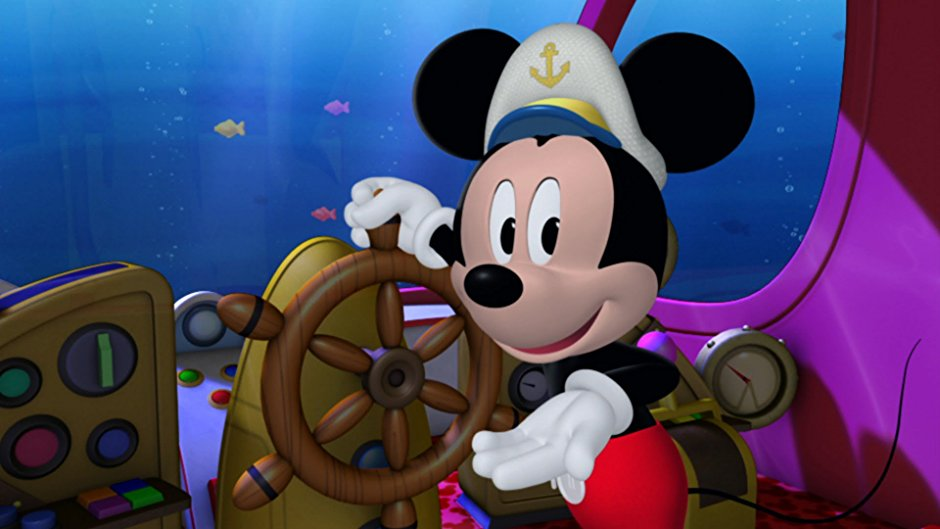Mickey: (379, 23, 759, 365)
